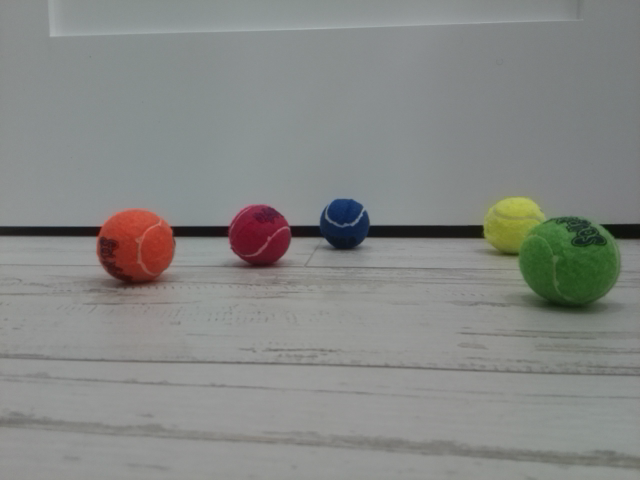blue-ball: (321, 197, 371, 251)
green-ball: (518, 216, 622, 308)
orange-ball: (96, 206, 176, 285)
red-ball: (228, 204, 292, 267)
yellow-ball: (482, 195, 549, 257)
